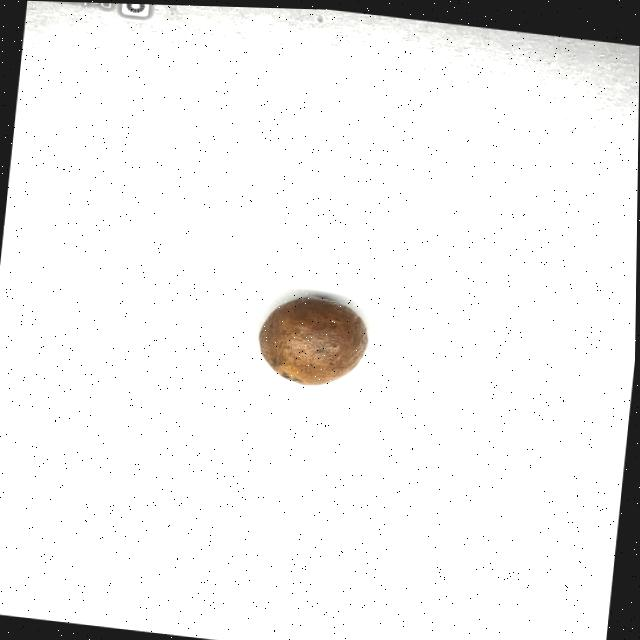Good bean: (255, 288, 374, 390)
